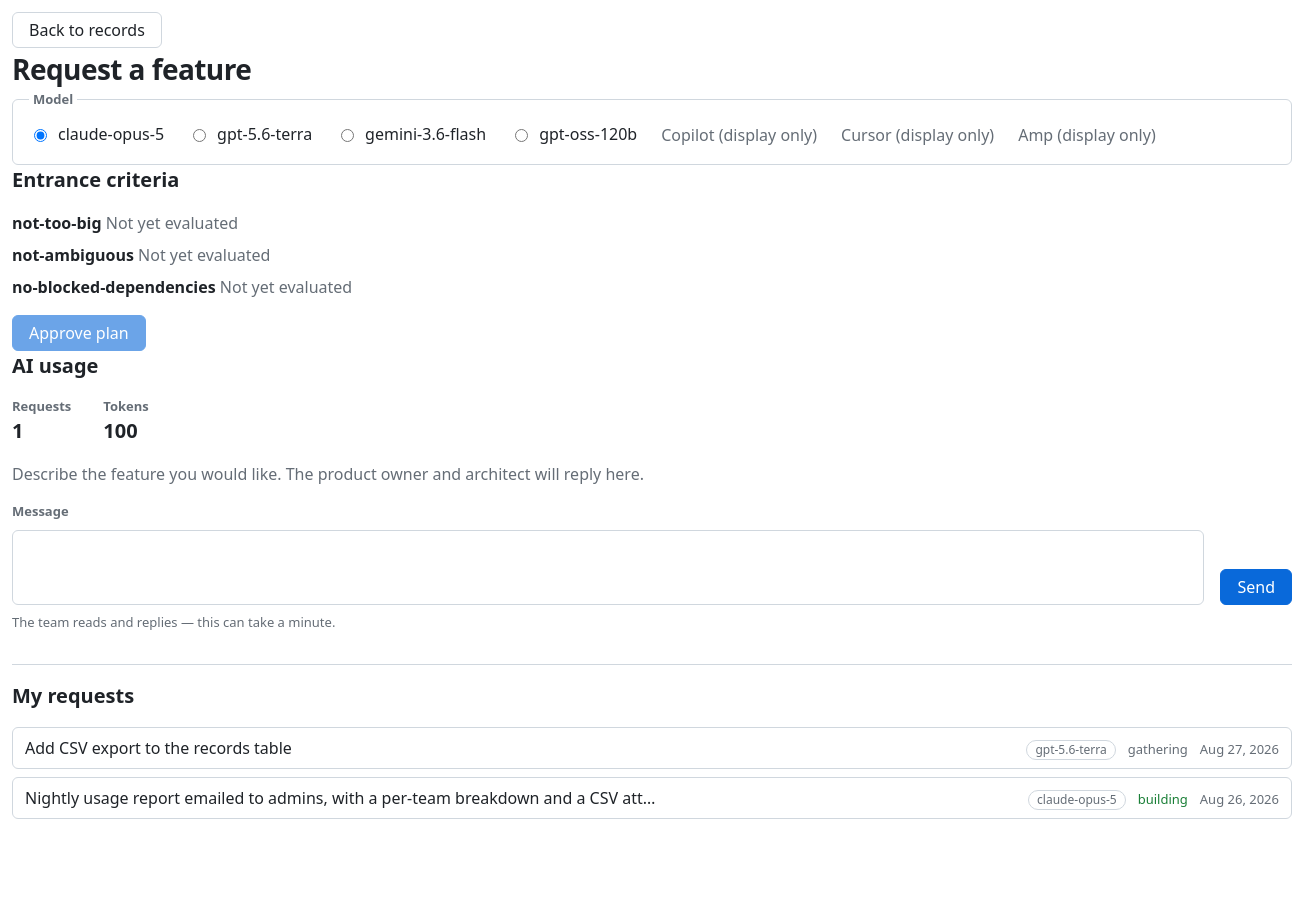
Scenario: DAN-74 my-requests list › reopens a gathering session into the chat — transcript complete (no typewriter replay), gates and composer live, picker locked to the session model
Click the button "Add CSV export to the records table gathering Aug 27, 2026" at x=158, y=748, box x1=12 y1=727 x2=1292 y2=769
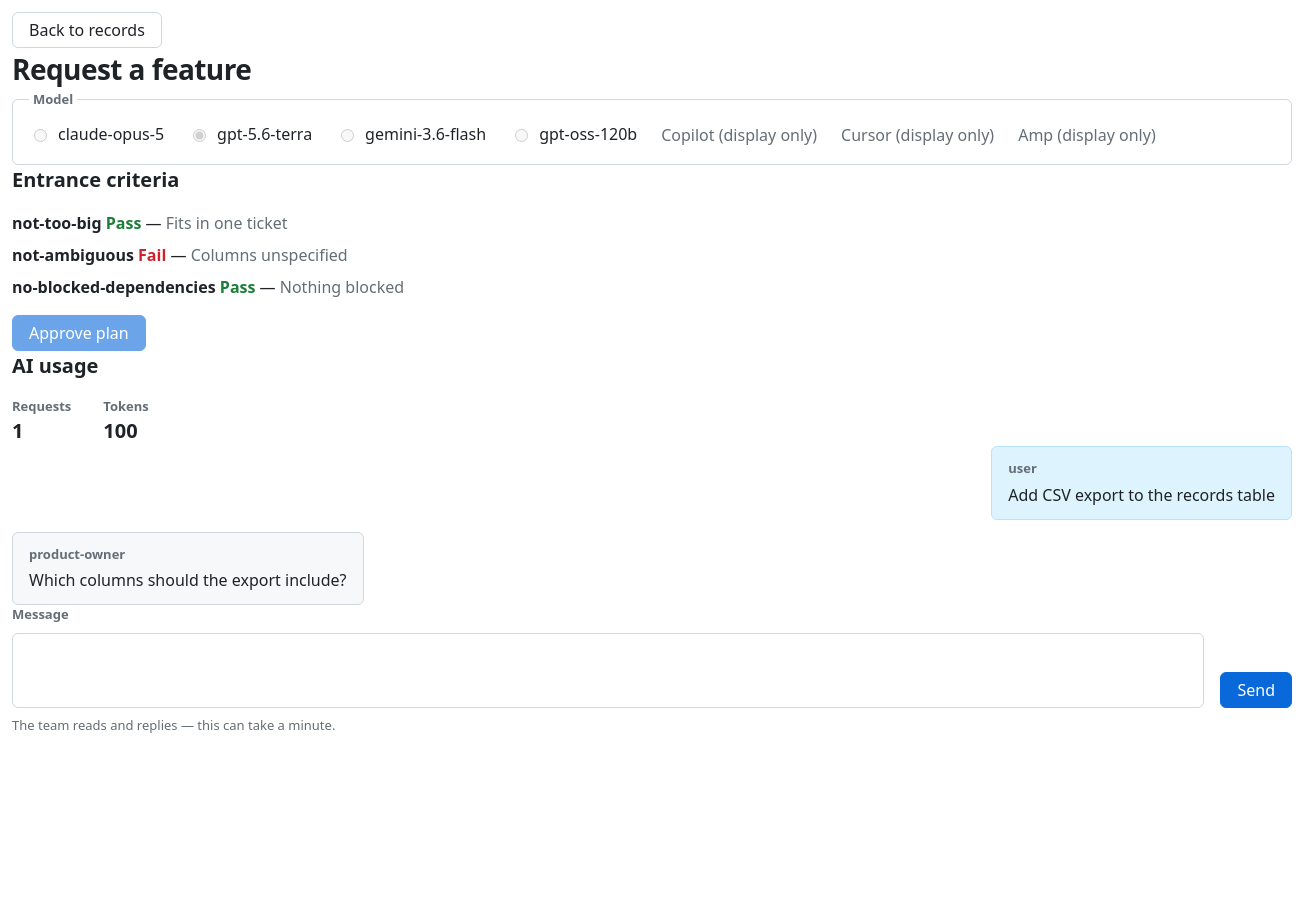
Expected: the text "Which columns should the export include?" is shown, x1=29 y1=568 x2=346 y2=592
Expected: the text "Columns unspecified" is shown, x1=191 y1=244 x2=348 y2=266
Expected: the radio button labelled "gpt-5.6-terra" is checked, x1=193 y1=128 x2=206 y2=142
